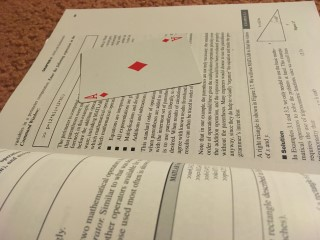AceOfDiamonds: (78, 34, 202, 102)
